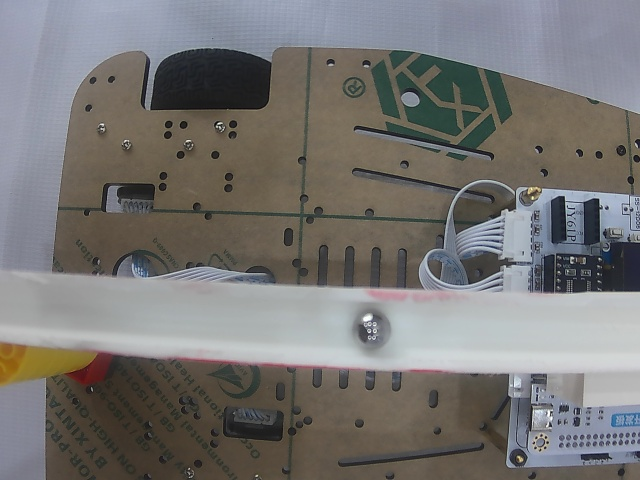steelball: (353, 310, 391, 348)
